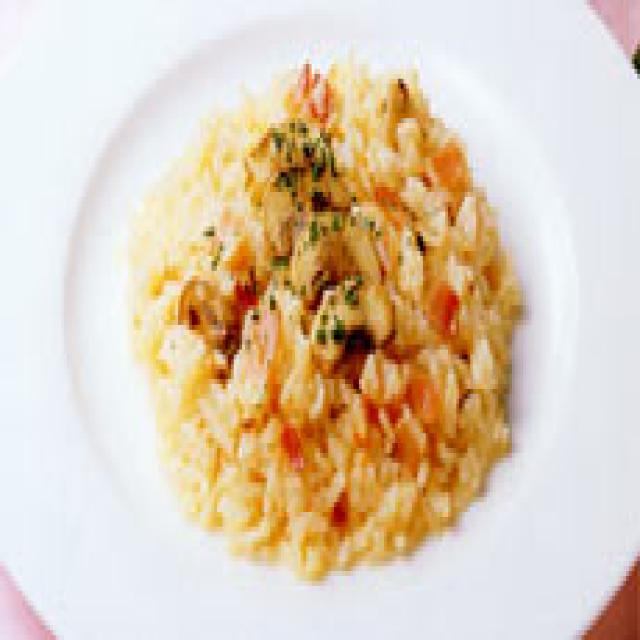米饭主食: (123, 15, 523, 571)
